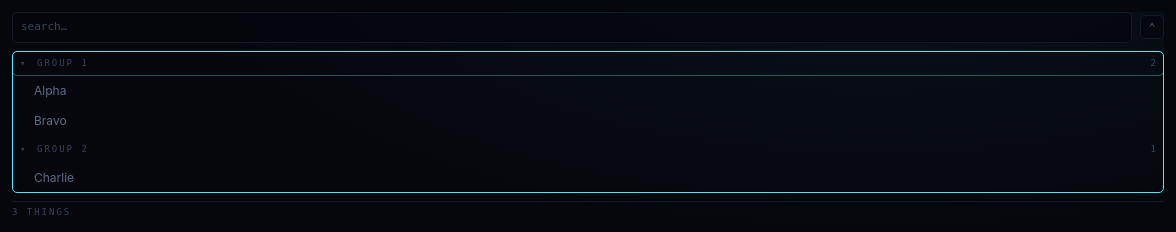
it: BrowserShell search folds (design §8.1) › restores the user's own folds when the query clears
Press ArrowLeft in the element showing "▾ Group 1 2 Alpha Bravo ▾ Group 2 1 Charlie", box [12,50,1164,192]
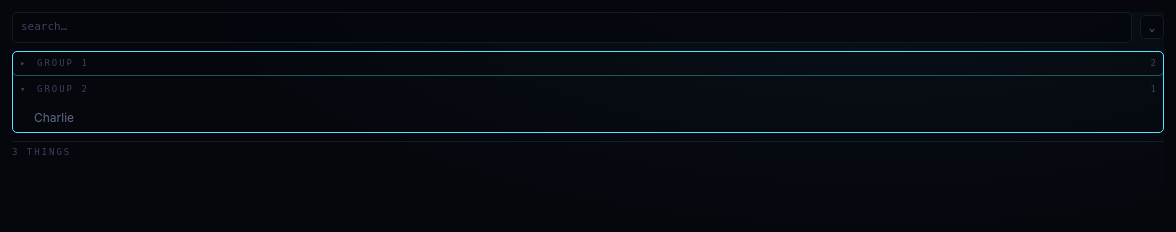
Type "alpha" into the field at {"x": 572, "y": 27}, box [12,12,1132,42]
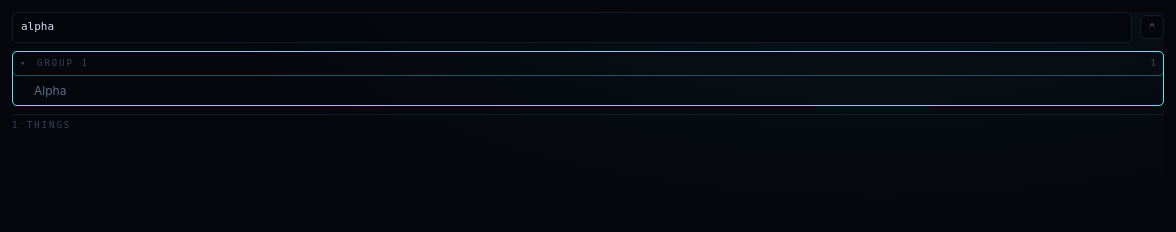
Clear the field at {"x": 572, "y": 27}, box [12,12,1132,42]
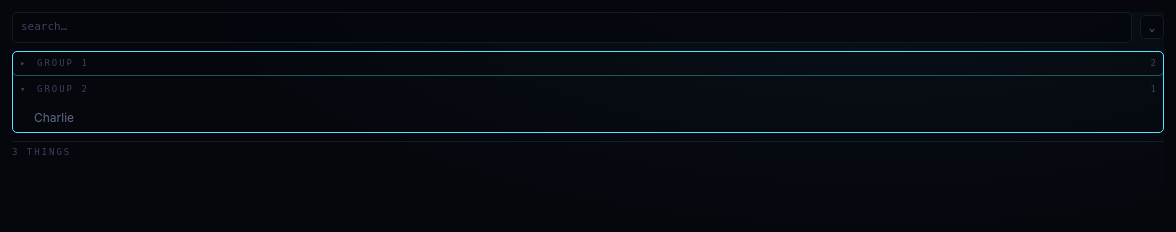
Check: the text "Alpha" is gone
